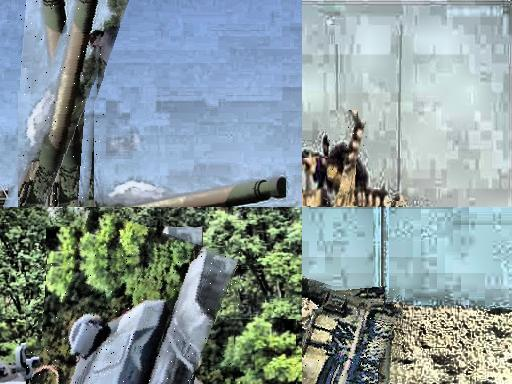tanks: (71, 251, 240, 384), (20, 1, 99, 208), (303, 288, 402, 384), (328, 119, 367, 208), (392, 198, 403, 204)
